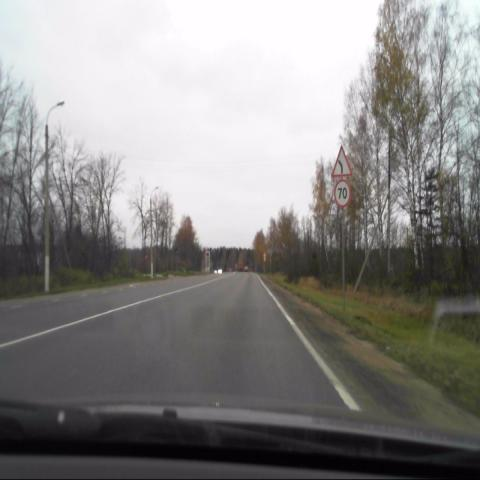1_11_1: (331, 143, 352, 177)
